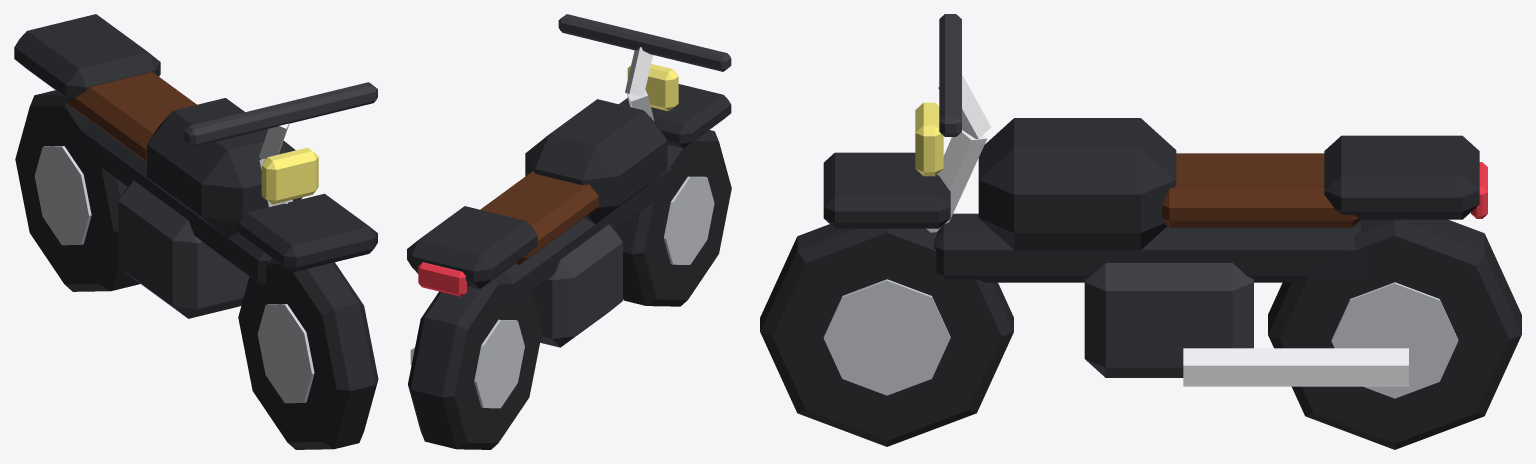
Rendered from BlackMotorcycle.fbx.
3 views of the same model, side by side, from view 1: azimuth 30°, elevation 25°; view 2: azimuth 150°, elevation 25°; view 3: azimuth 270°, elevation 25° (orthographic). The views are drawn at different scales.
Parts seen in each view (by area): view 1: BlackMotorcycle, BlackMotorcycle_WheelF, BlackMotorcycle_WheelB; view 2: BlackMotorcycle, BlackMotorcycle_WheelB, BlackMotorcycle_WheelF; view 3: BlackMotorcycle, BlackMotorcycle_WheelF, BlackMotorcycle_WheelB.
Boxes of the visible parts, x1,y1,x2,y2 form: BlackMotorcycle: (14, 14, 377, 318); BlackMotorcycle_WheelF: (238, 258, 378, 449); BlackMotorcycle_WheelB: (15, 90, 139, 291); BlackMotorcycle: (407, 14, 731, 364); BlackMotorcycle_WheelB: (408, 273, 542, 449); BlackMotorcycle_WheelF: (615, 130, 731, 306); BlackMotorcycle: (823, 14, 1487, 386); BlackMotorcycle_WheelF: (760, 224, 1013, 446); BlackMotorcycle_WheelB: (1268, 219, 1521, 449).
Bounding box in the file's own units: 1.8 × 2.93 × 5.4.
1 material, 1 textured.
